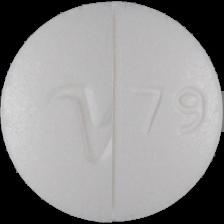0179-0058: (0, 0, 224, 224)
